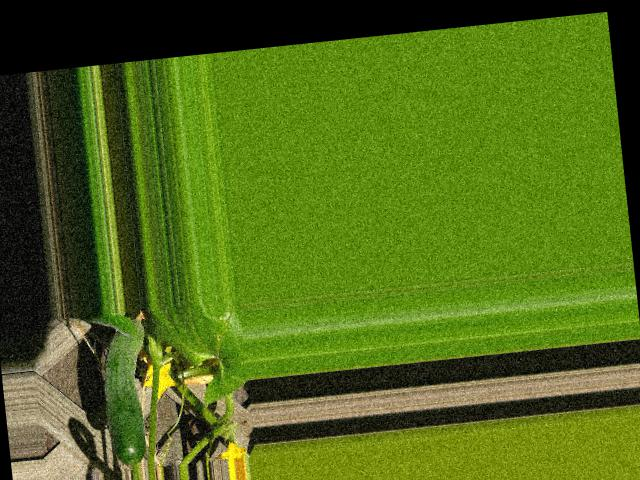cucumber: (95, 310, 157, 464)
